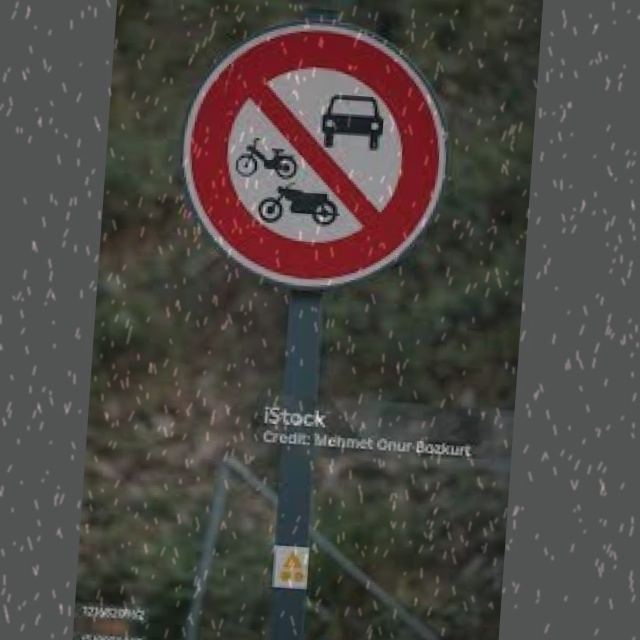All_Motor_Vehicles_Prohibited: (174, 11, 451, 293)
